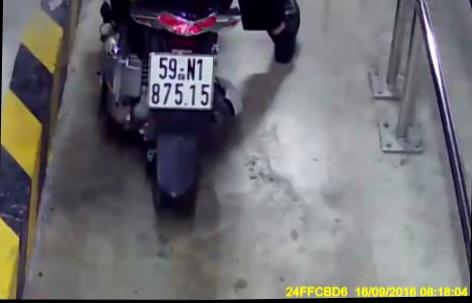LP: (146, 49, 214, 115)
